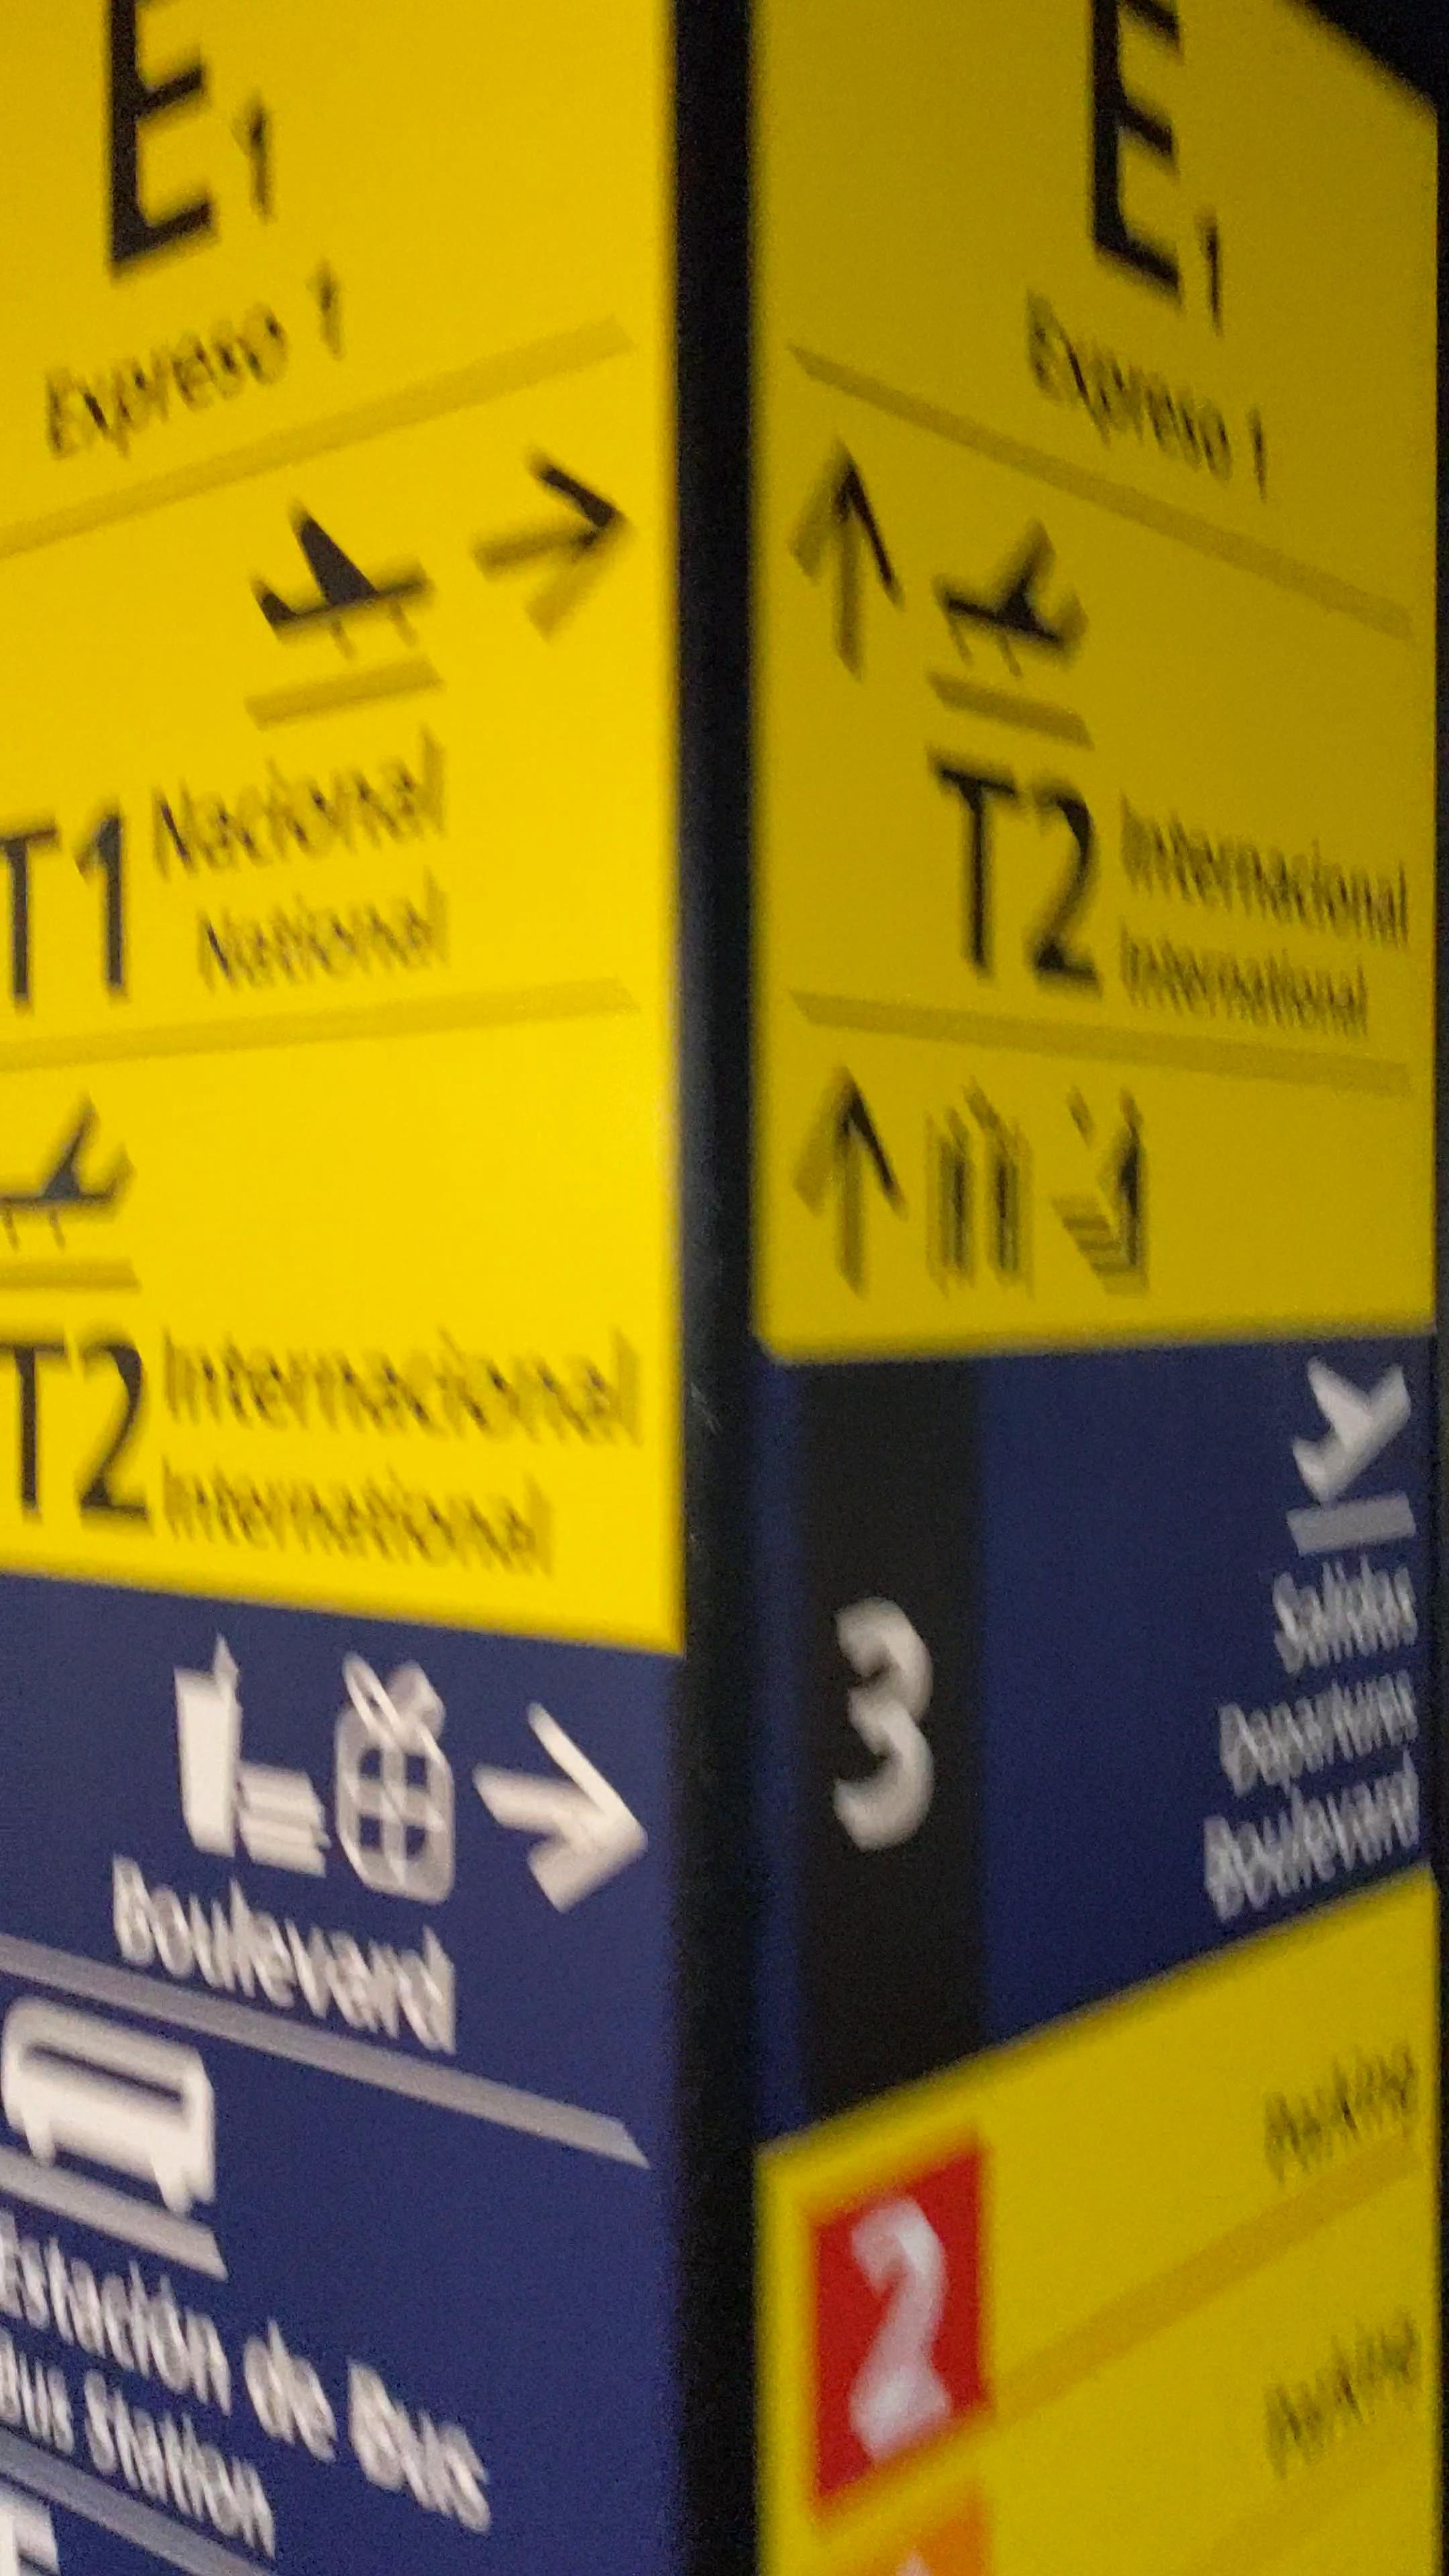airplane symbol: (232, 490, 448, 667), (918, 504, 1109, 676), (1269, 1353, 1426, 1502), (0, 1092, 147, 1246)
thin right arrow: (467, 1691, 658, 1916), (460, 439, 644, 644)
thin up arrow: (789, 1049, 916, 1311), (782, 433, 913, 688)
